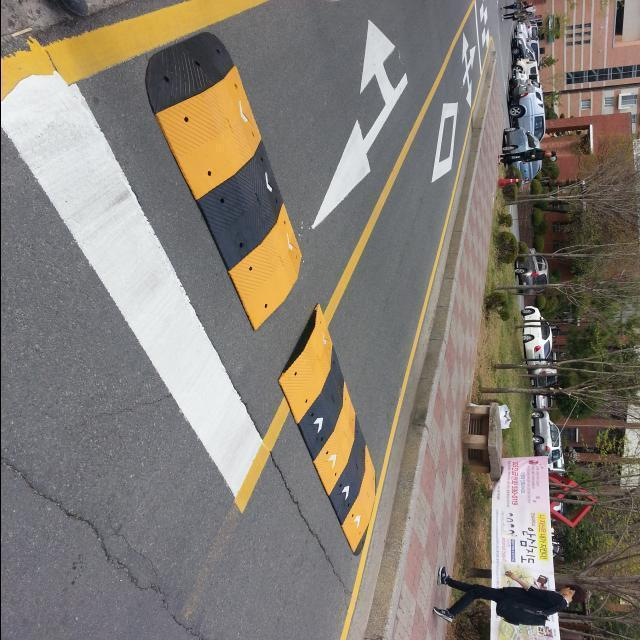speedbreaker: (113, 56, 401, 556)
